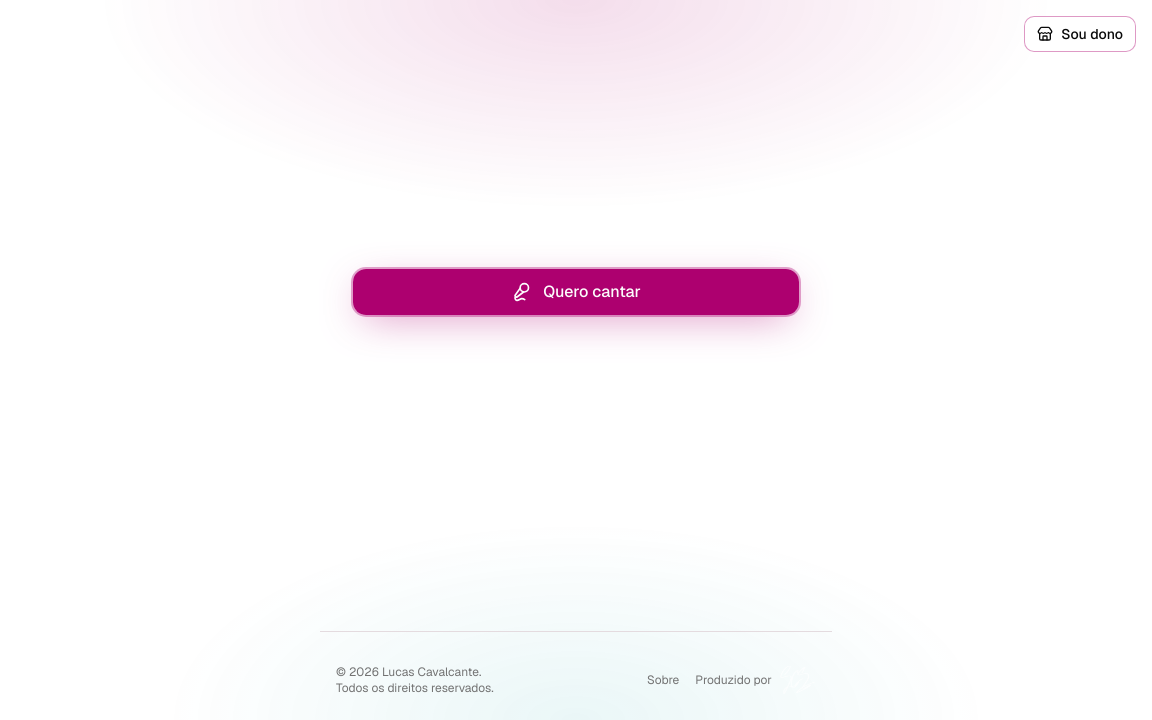
Test case: Onboarding (Tela 1) › mostra o banner de consentimento antes do aceite e não coopera
Click the button "Quero cantar" at [576, 292], box [352,268,800,316]
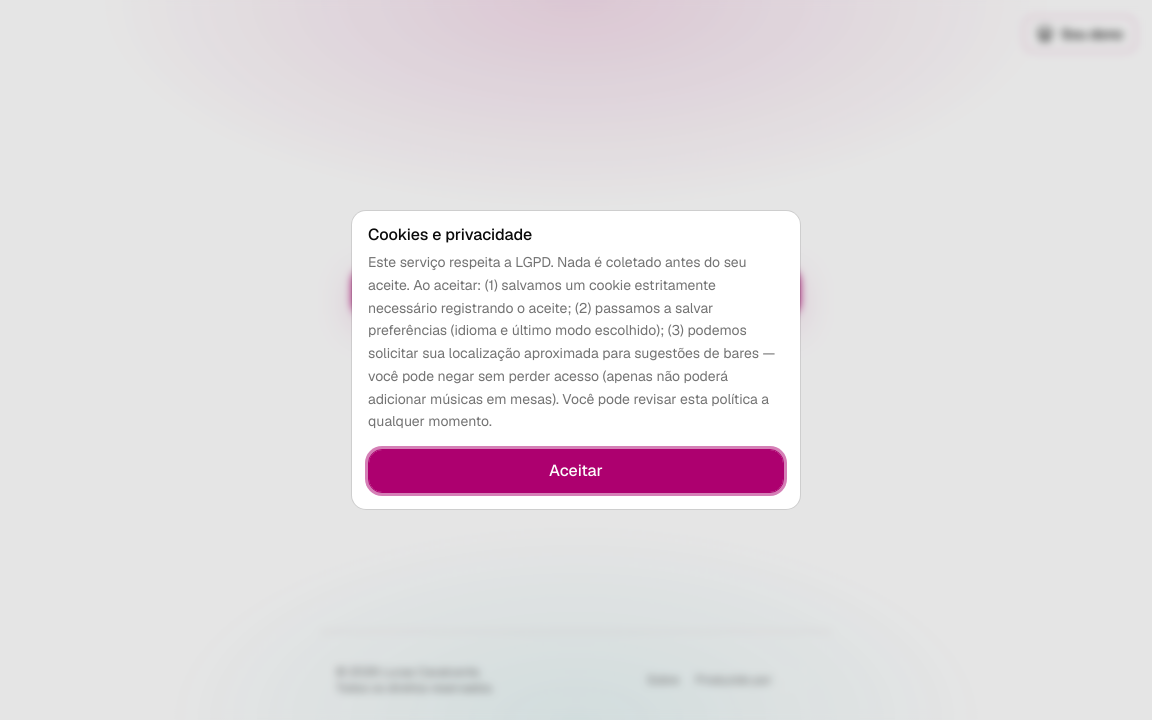
Check: the dialog is shown, box [352,211,800,509]
